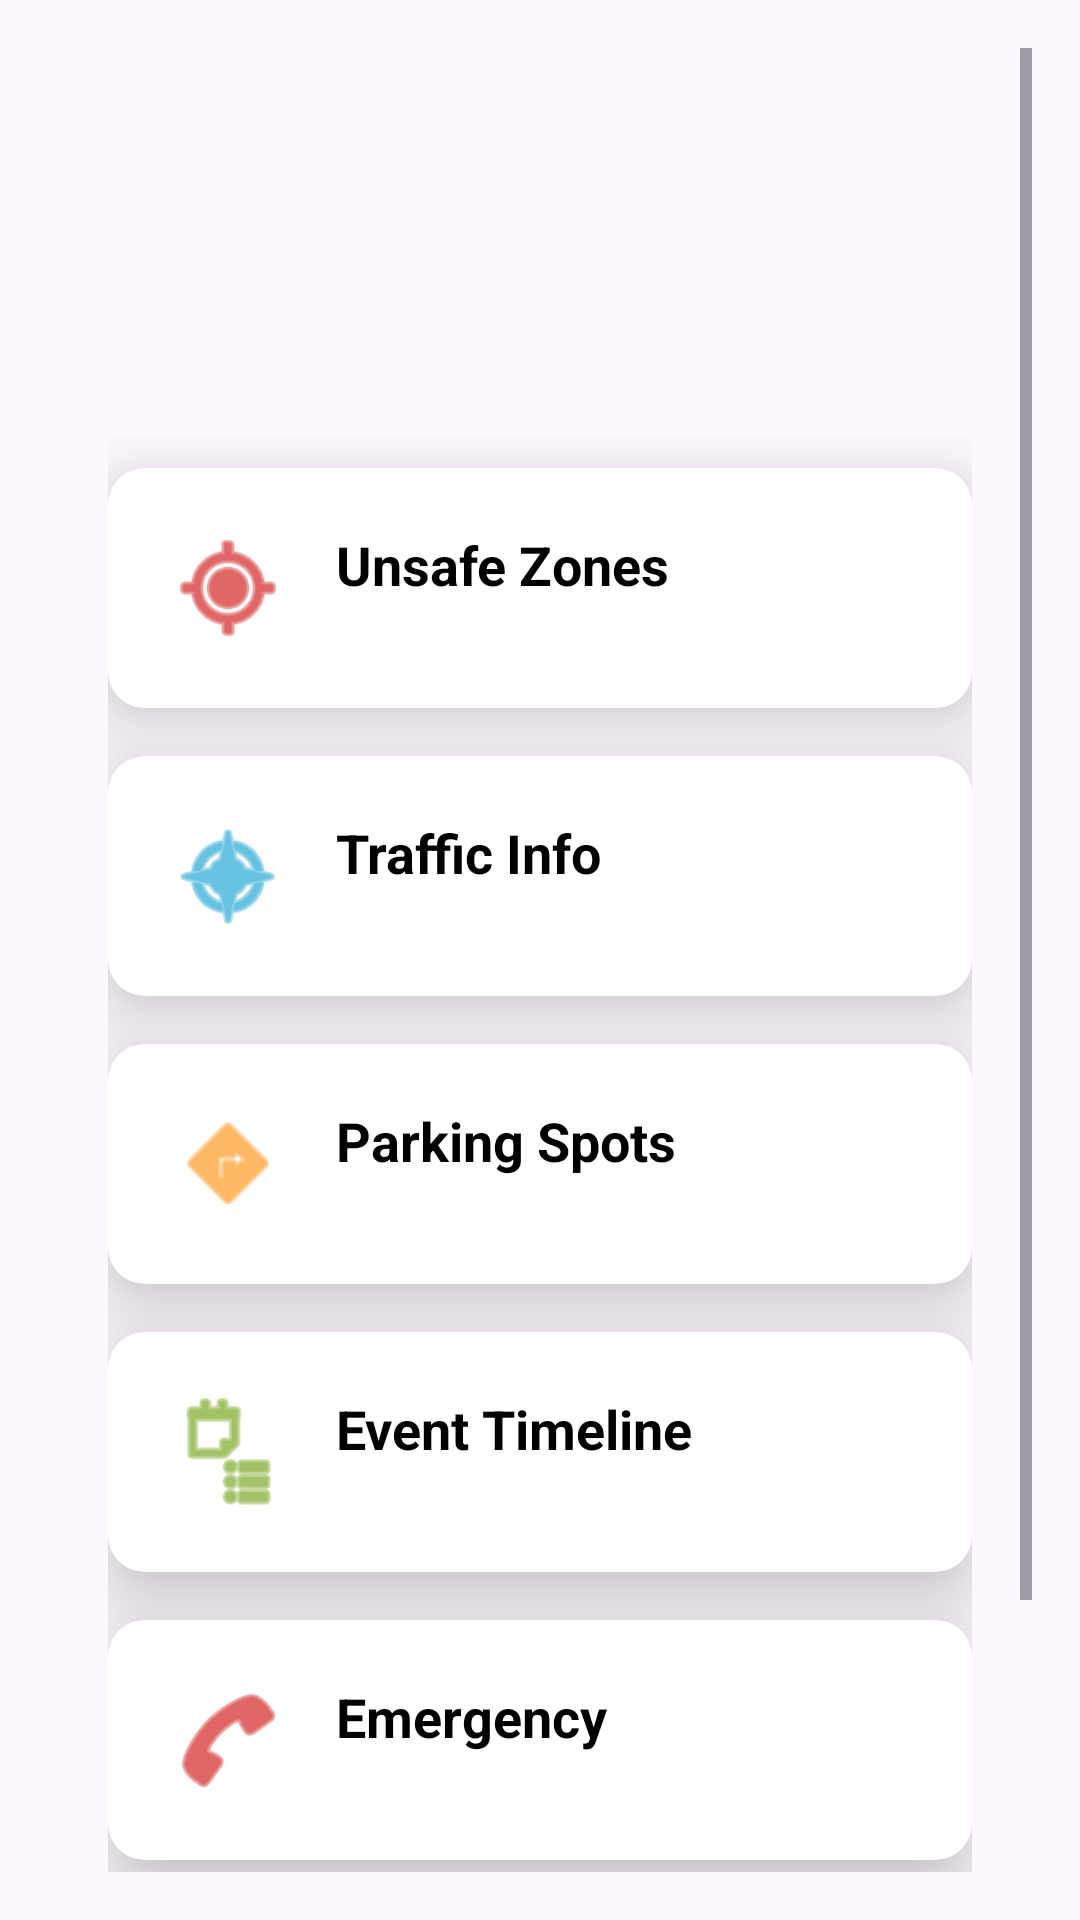

Where icons sit on this 1080 x 1920 app screen, as (x1, y1, x2, y2):
agenda: (186, 1398, 271, 1505)
call: (182, 1694, 276, 1788)
compass: (180, 829, 275, 924)
directions: (187, 1122, 269, 1204)
mylocation: (180, 540, 276, 636)
